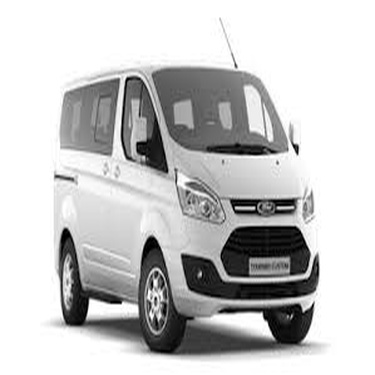car: (49, 56, 323, 356)
